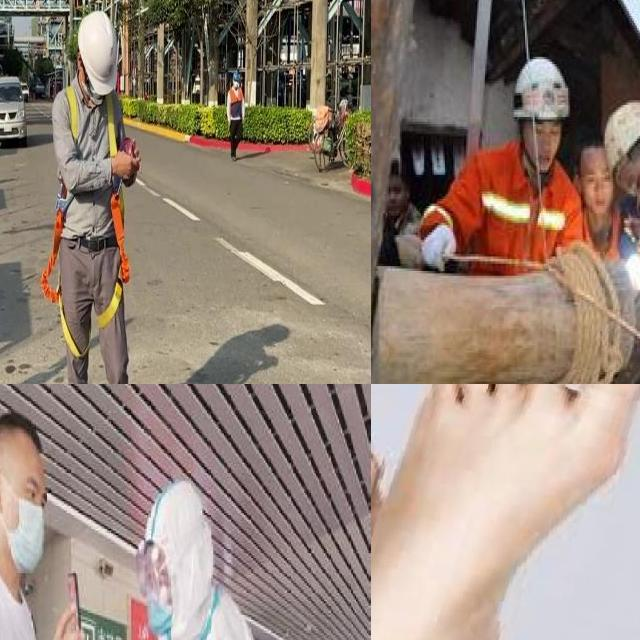Barefoots: (371, 384, 640, 640)
Harness: (41, 208, 85, 359), (97, 193, 131, 330)
face_mask: (0, 453, 60, 578)
face_nomask: (523, 119, 565, 170), (583, 165, 616, 214), (623, 170, 640, 214)
glasses: (123, 539, 179, 603)
hand_glove: (418, 224, 462, 270)
hand_noglove: (46, 601, 88, 640)
head_helmet: (509, 55, 571, 124), (598, 101, 640, 166)
head_nohelmet: (0, 401, 53, 459)
person: (430, 53, 589, 384), (132, 473, 316, 640), (0, 409, 88, 640)
